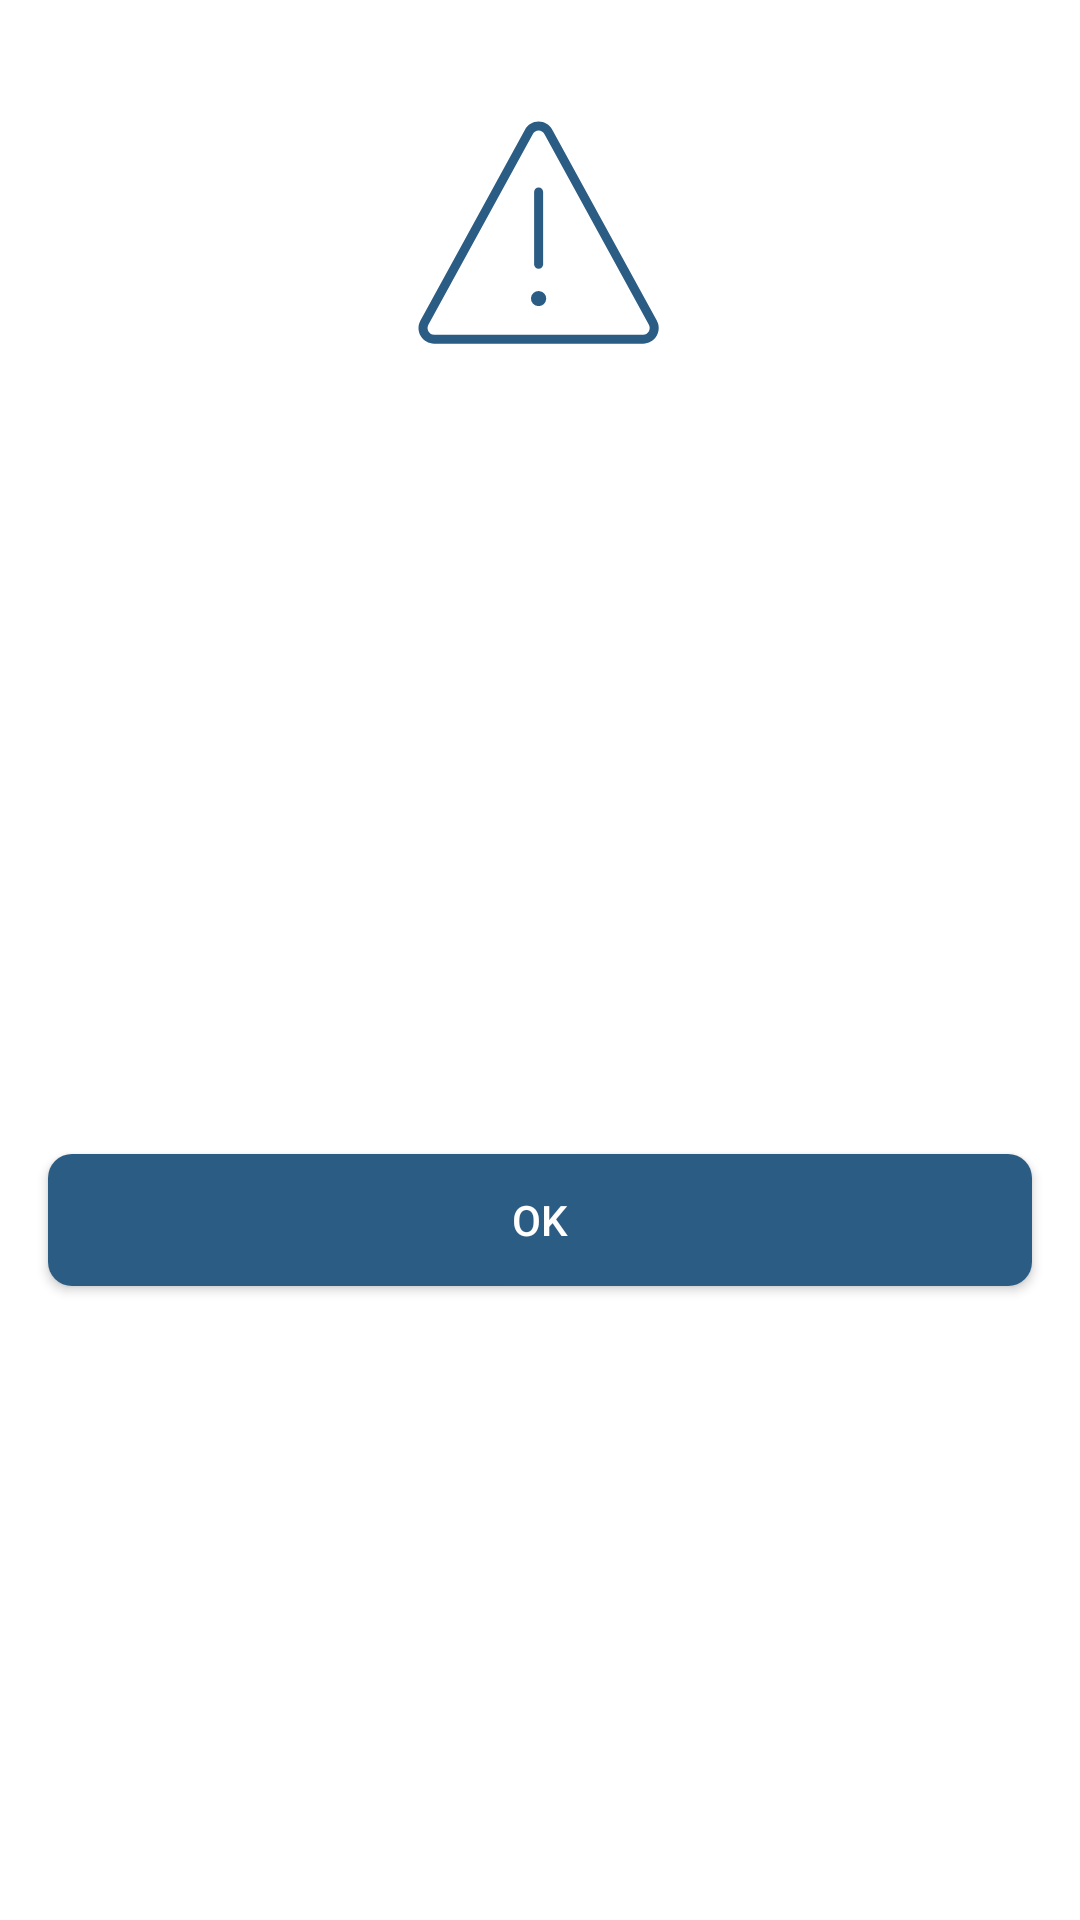

Icon bounding boxes for this 1080*1920 phone screenshot, format BBox(x1, y1, x2, y2):
warning: BBox(418, 121, 659, 344)
